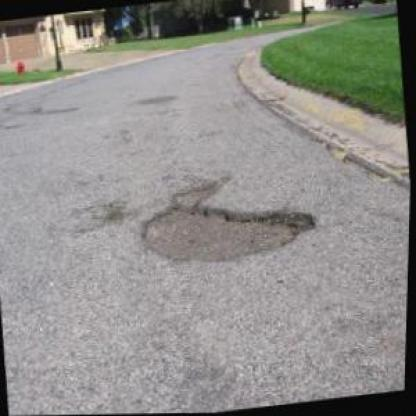pothole: (136, 188, 322, 271), (171, 177, 228, 208), (107, 205, 133, 226)
